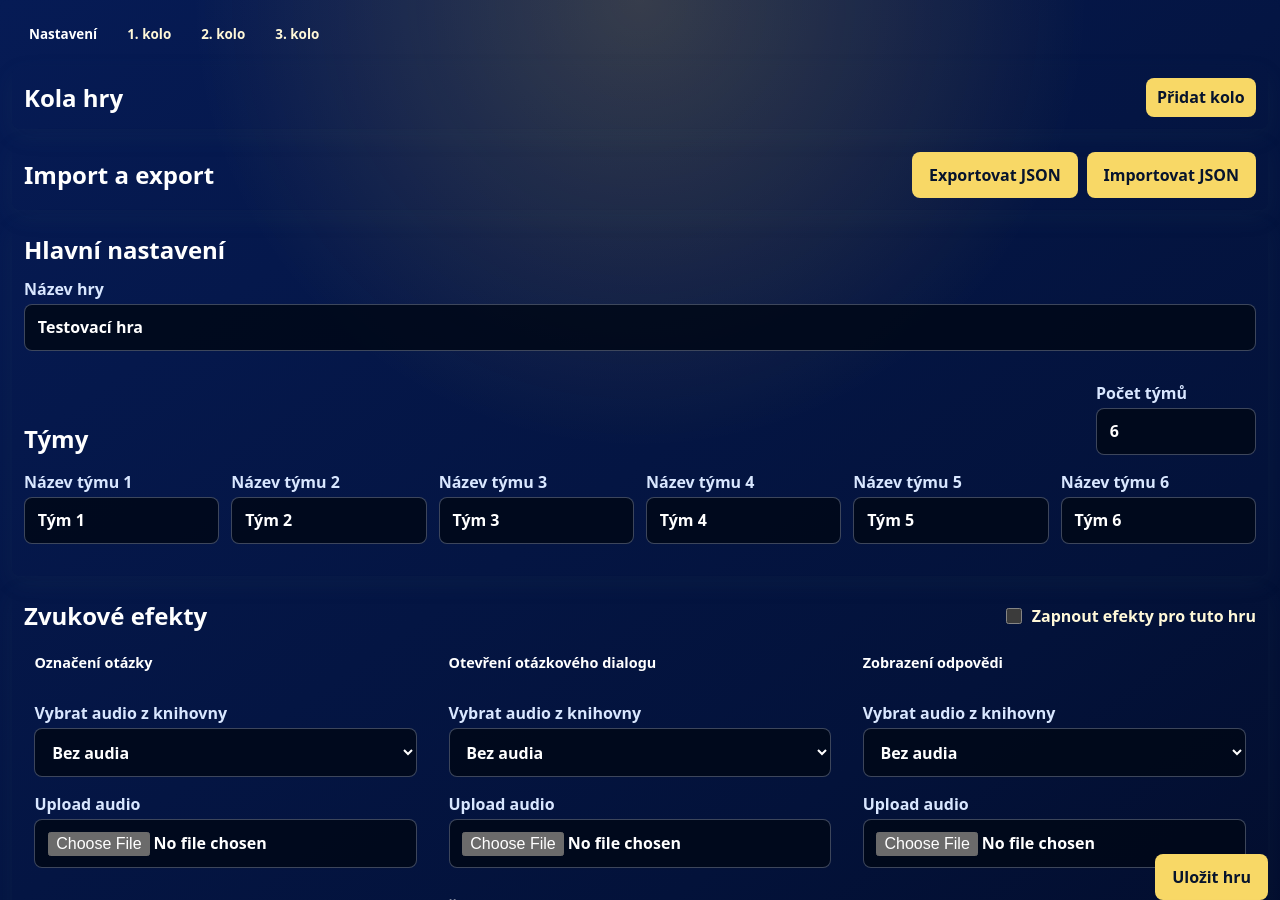
it: GameEditor › rozdělí editor do tabů pro nastavení a jednotlivá kola
The image size is (1280, 900).
Check: the tab "2. kolo" is shown, box 189,17 -> 258,50
Check: the tab "3. kolo" is shown, box 263,17 -> 332,50
Click the tab "1. kolo" at [149, 34], box 115,17 -> 184,50
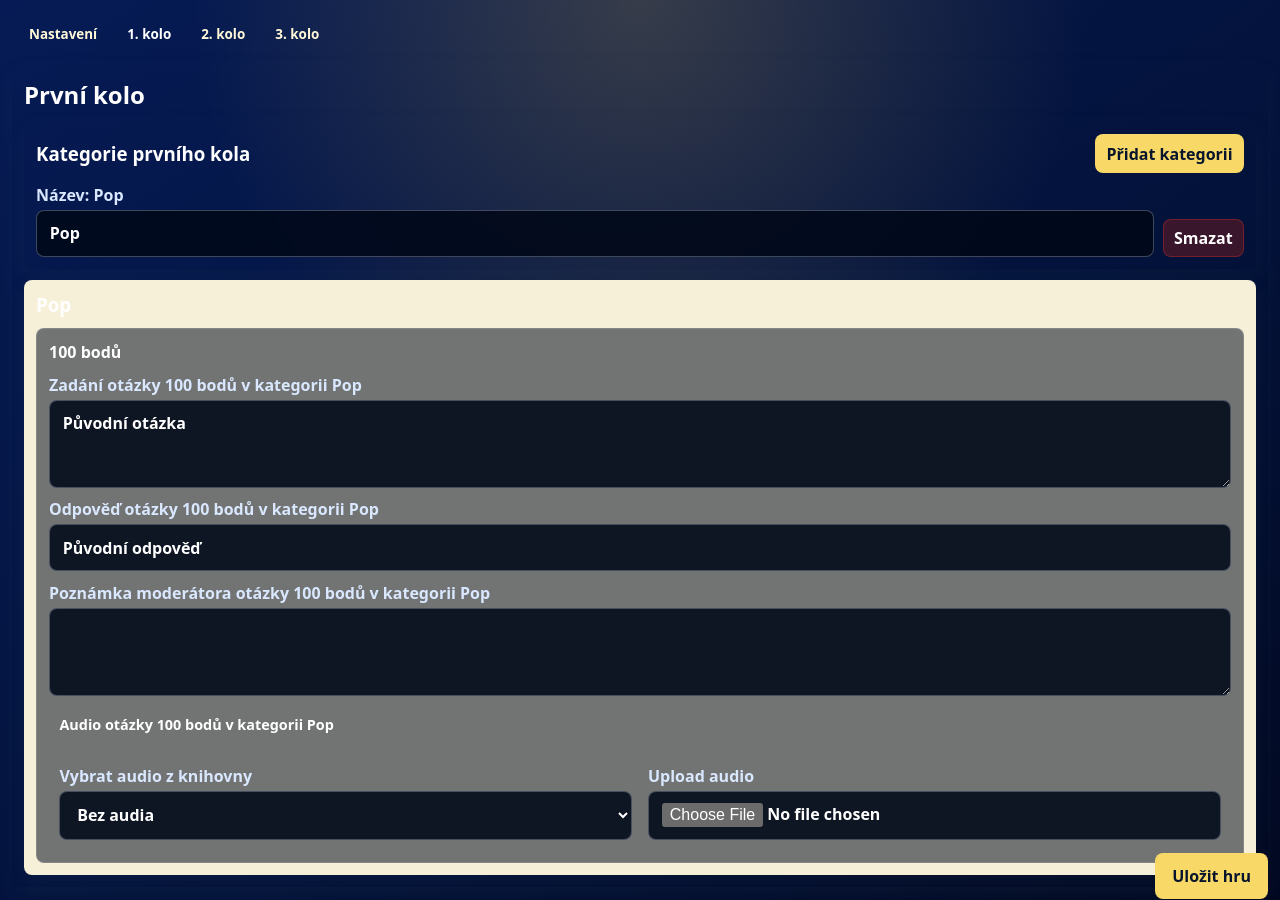
Check: the heading "První kolo" is shown, box 24,78 -> 145,111
